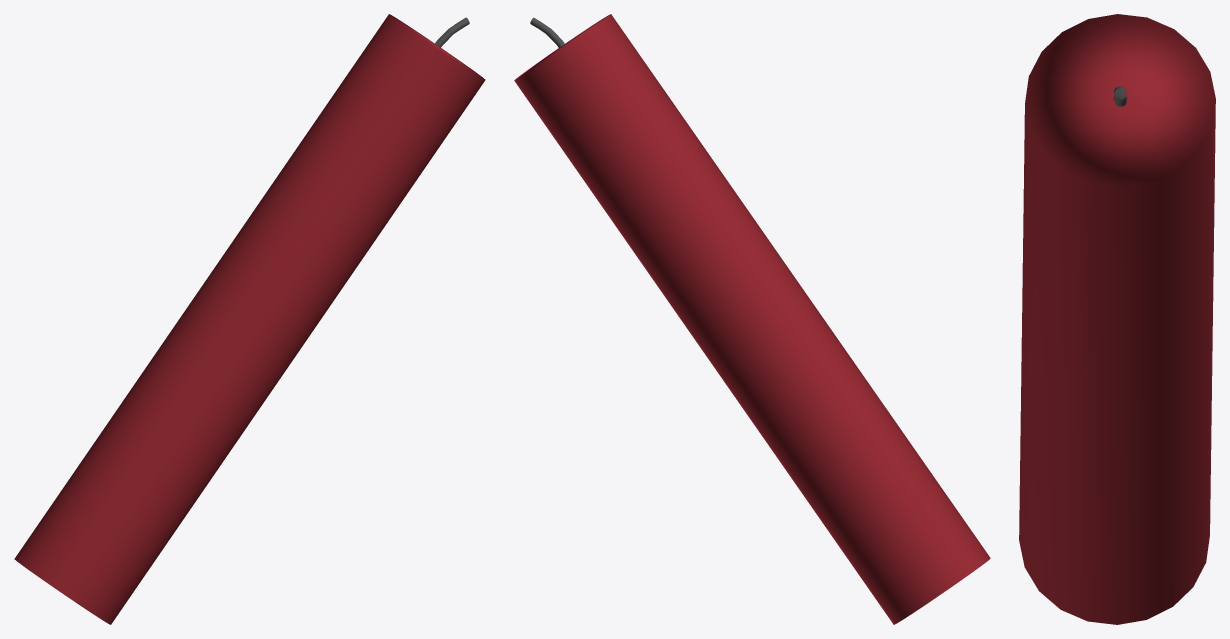
The model's file is Small Dynamite.fbx.
3 views of the same model, side by side, from view 1: azimuth 30°, elevation 25°; view 2: azimuth 150°, elevation 25°; view 3: azimuth 270°, elevation 25° (orthographic). The views are drawn at different scales.
Parts seen in each view (by area): view 1: SmallDynamite1; view 2: SmallDynamite1; view 3: SmallDynamite1.
Boxes of the visible parts, x1=… form: SmallDynamite1: x1=14, y1=14, x2=485, y2=624; SmallDynamite1: x1=514, y1=14, x2=990, y2=624; SmallDynamite1: x1=1019, y1=14, x2=1215, y2=624.
Bounding box in the file's own units: 1.19 × 1.31 × 0.2743.
